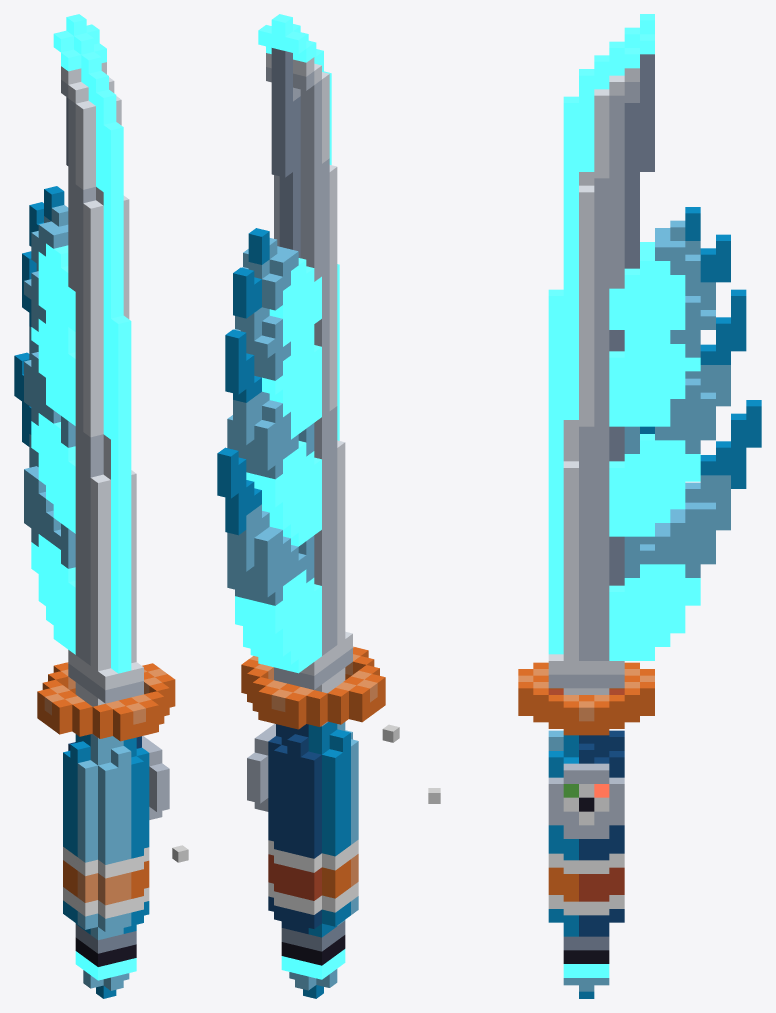
Rendered from NitroKatana.fbx.
3 renders of one model, left to right at view 1: azimuth 30°, elevation 25°; view 2: azimuth 150°, elevation 25°; view 3: azimuth 270°, elevation 25°, orthographic. The views are drawn at different scales.
Visible parts, largest first — view 1: nitroglow, chrome_l, nitro_l, chrome, nitro, paint, paint_l, stripe, chrome_d, tyre; view 2: nitroglow, nitro_l, chrome, nitro, nitro_d, paint, chrome_l, chrome_d, stripe, paint_d, paint_l, tyre; view 3: nitroglow, chrome, nitro_l, chrome_l, nitro, chrome_d, paint, nitro_d, stripe, paint_d, paint_l, tyre.
Boxes of the visible parts, x1,y1,x2,y2 form: nitroglow: [31, 14, 136, 980]; chrome_l: [61, 62, 143, 706]; nitro_l: [24, 205, 131, 990]; chrome: [61, 80, 169, 819]; nitro: [14, 186, 149, 998]; paint: [37, 662, 175, 898]; paint_l: [44, 662, 166, 905]; stripe: [63, 847, 149, 918]; chrome_d: [66, 97, 136, 953]; tyre: [75, 937, 136, 966]; nitroglow: [235, 14, 345, 979]; nitro_l: [227, 238, 358, 990]; chrome: [247, 67, 352, 811]; nitro: [217, 228, 350, 998]; nitro_d: [268, 724, 321, 934]; paint: [241, 647, 385, 898]; chrome_l: [266, 53, 352, 693]; chrome_d: [271, 48, 345, 951]; stripe: [268, 840, 358, 914]; paint_d: [268, 854, 321, 900]; paint_l: [249, 646, 377, 886]; tyre: [281, 935, 345, 965]; nitroglow: [548, 14, 700, 977]; chrome: [548, 82, 639, 838]; nitro_l: [548, 220, 730, 991]; chrome_l: [548, 68, 639, 694]; nitro: [548, 207, 761, 998]; chrome_d: [563, 54, 654, 950]; paint: [518, 662, 654, 901]; nitro_d: [579, 730, 624, 936]; stripe: [548, 784, 624, 915]; paint_d: [548, 689, 624, 901]; paint_l: [518, 669, 654, 721]; tyre: [563, 797, 609, 963].
Bounding box in the file's own units: 90 × 710 × 219.
